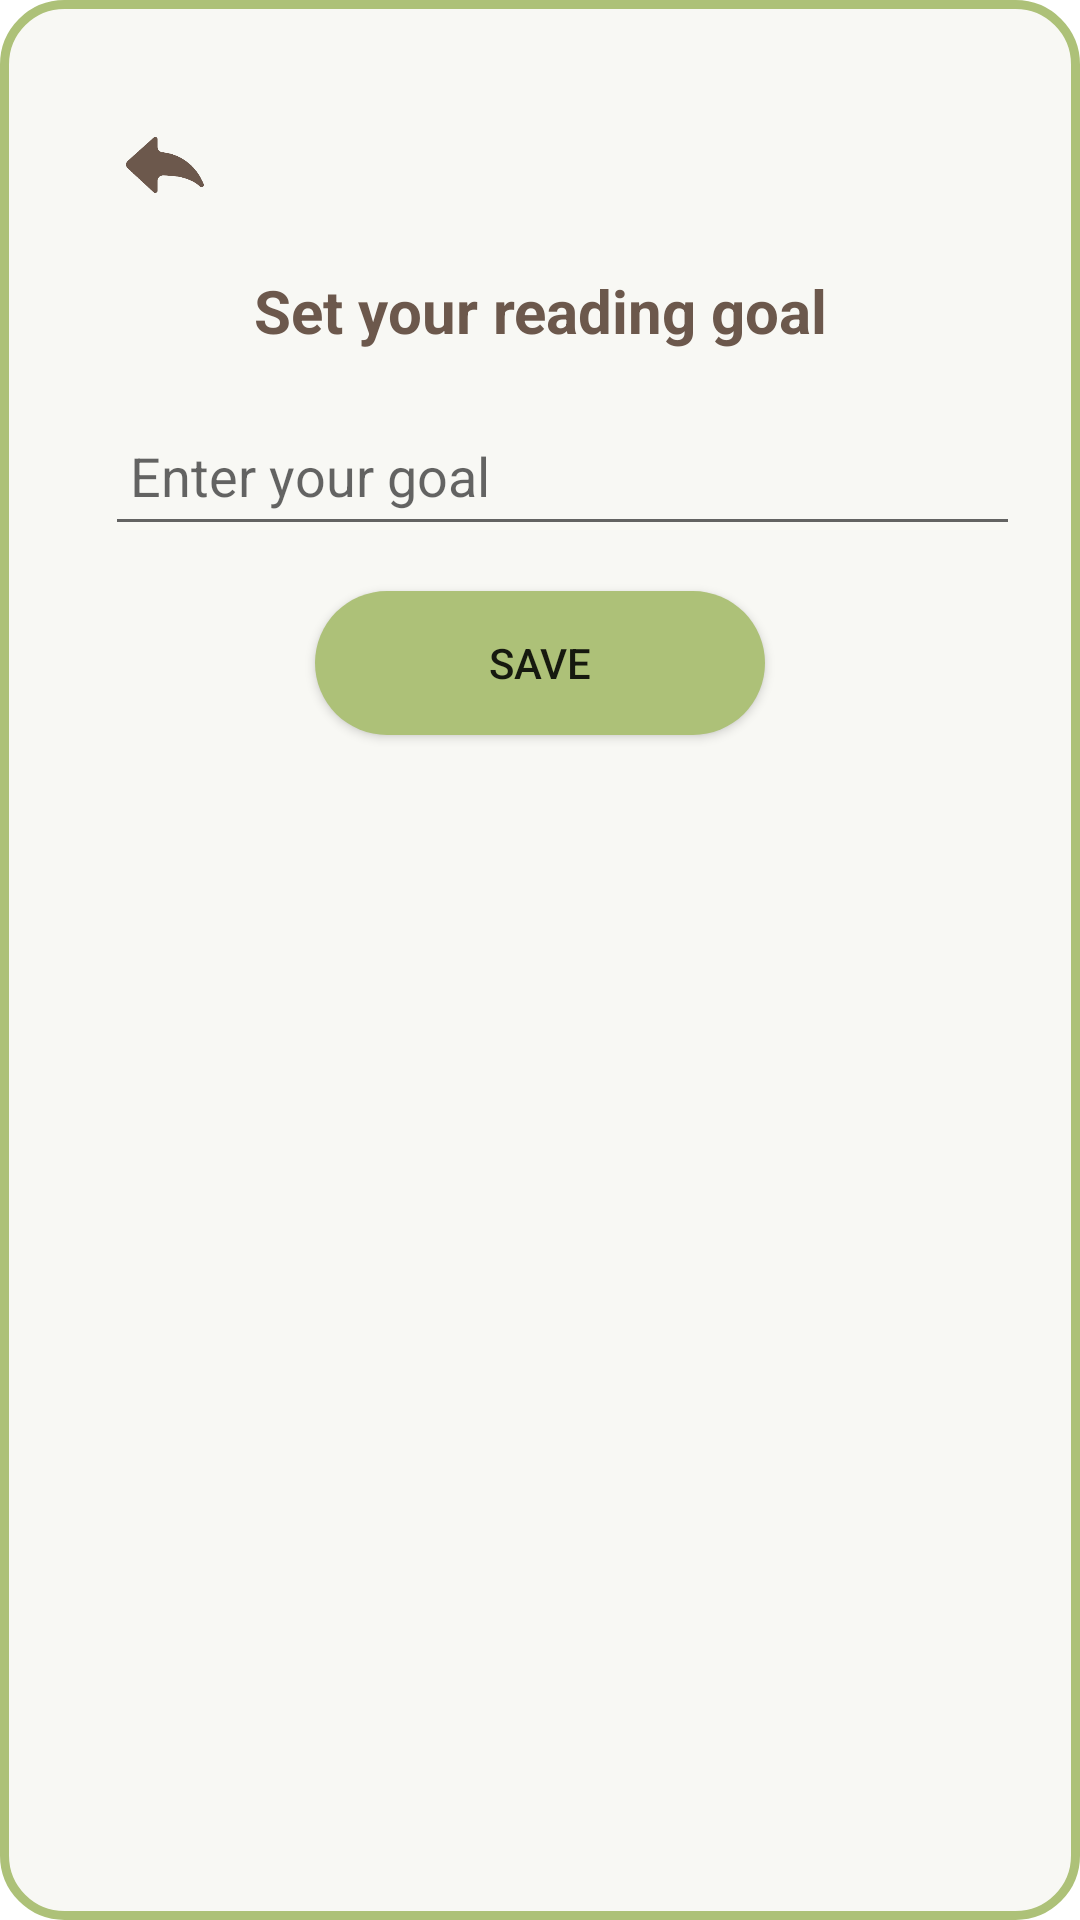

Where to tap for icons on this 1080px×1920px app screen, as point (x, y):
back: point (165, 165)
